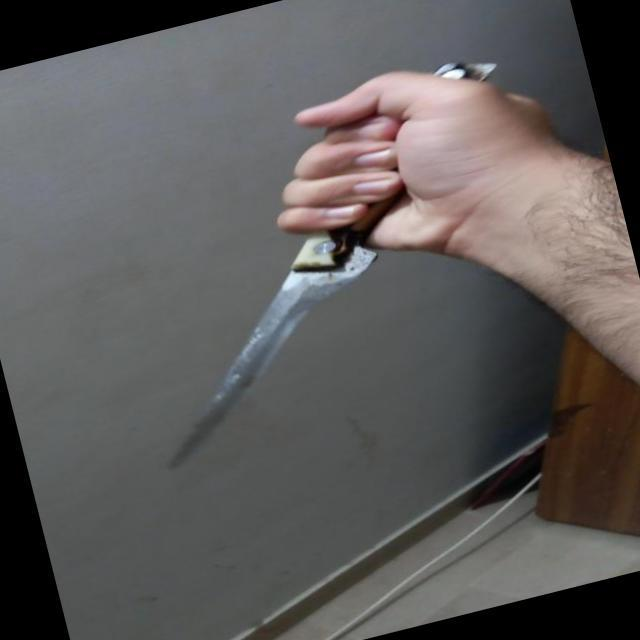Knife: (62, 51, 576, 478)
